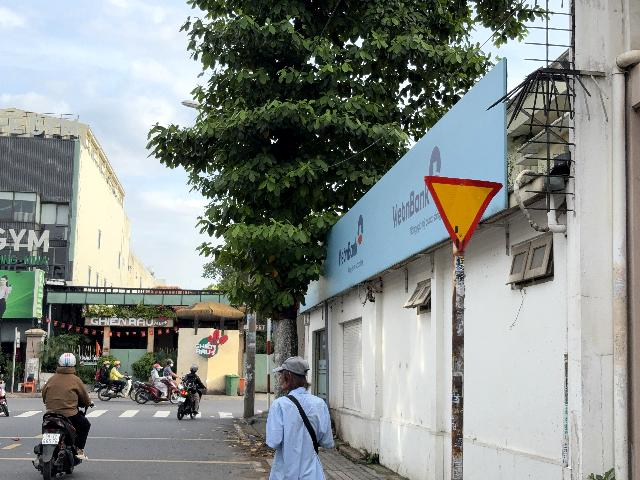giao-nhau-voi-duong-uu-tien: (424, 175, 503, 253)
